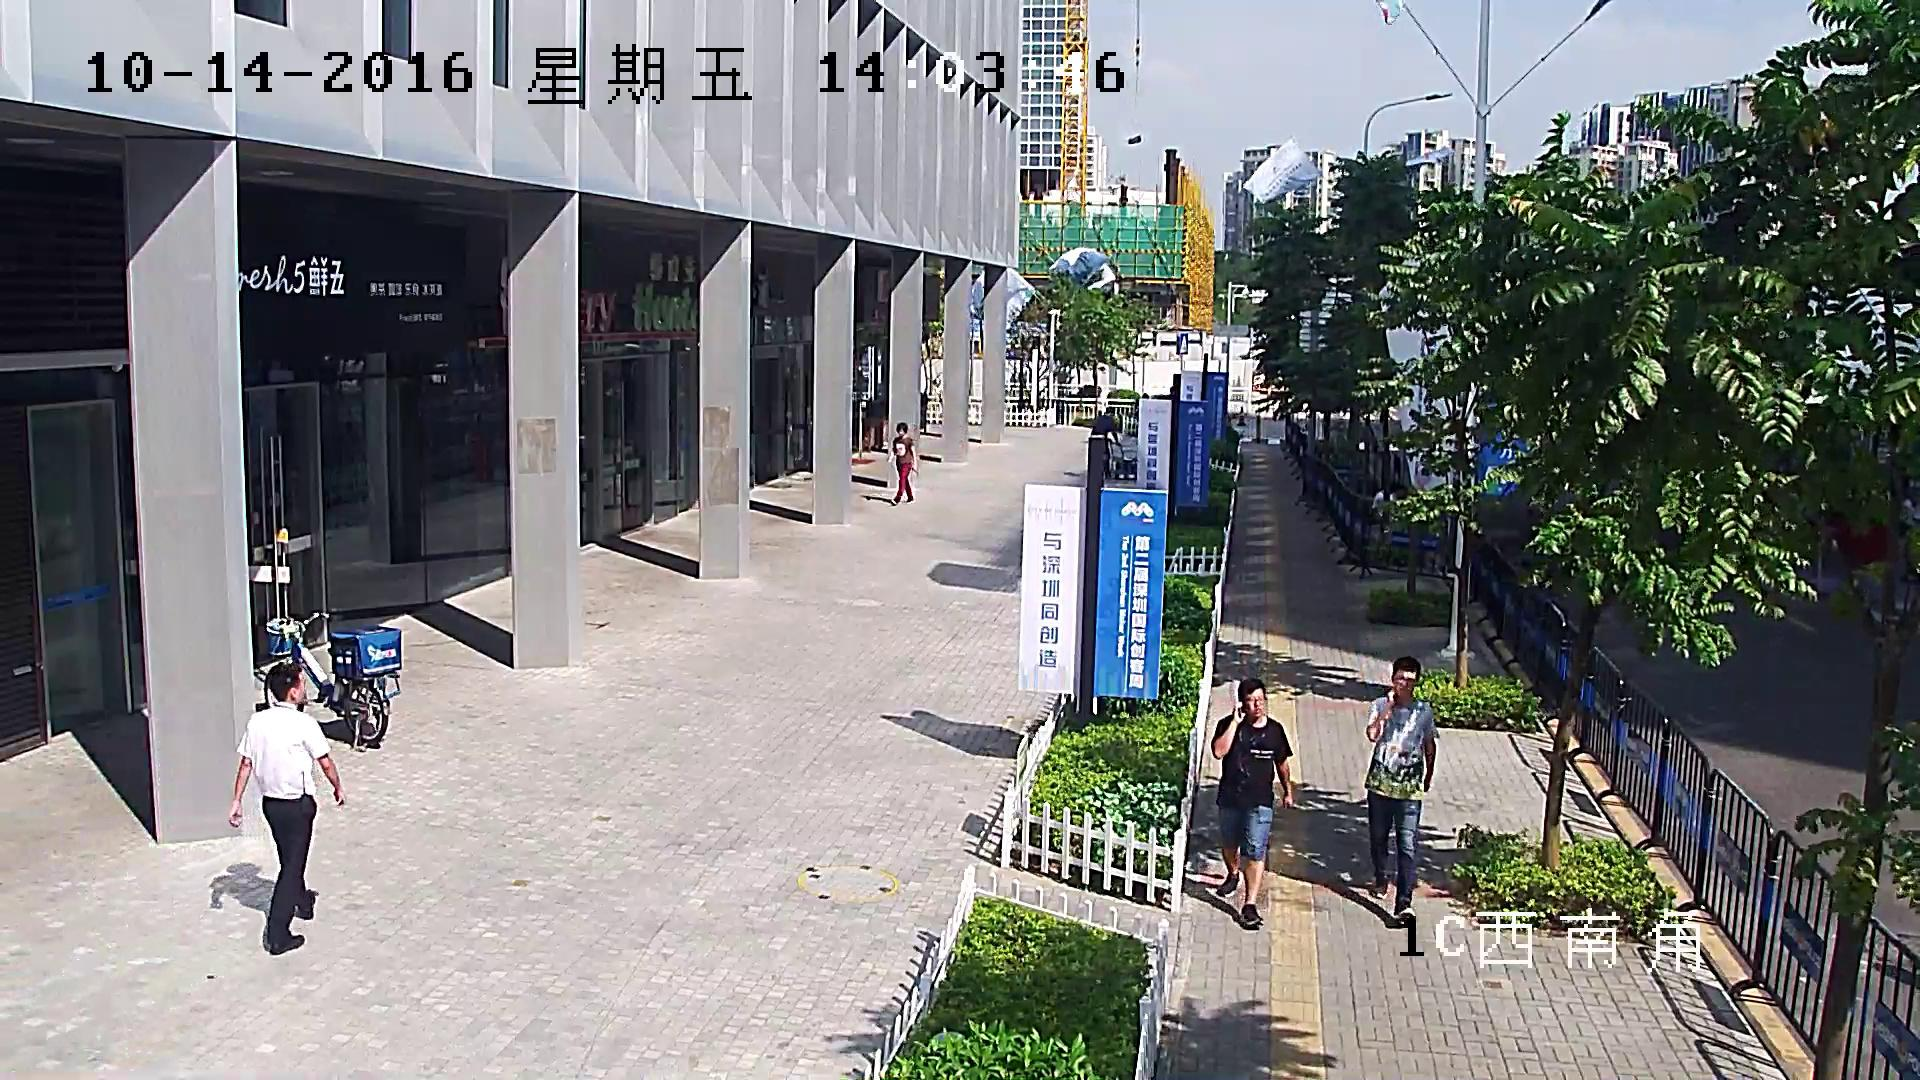person: (227, 663, 345, 954), (1212, 677, 1294, 930), (1364, 656, 1439, 919), (1089, 406, 1136, 480), (887, 422, 919, 505), (1090, 406, 1120, 480), (1371, 483, 1408, 515)
